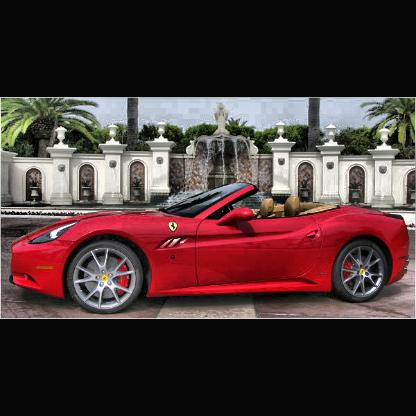Ferrari California Convertible 2012: (10, 184, 410, 315)
